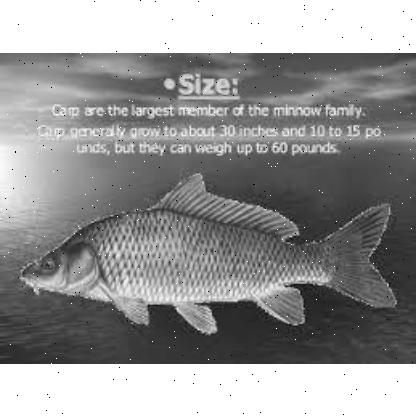ikan-mas: (19, 174, 392, 336)
